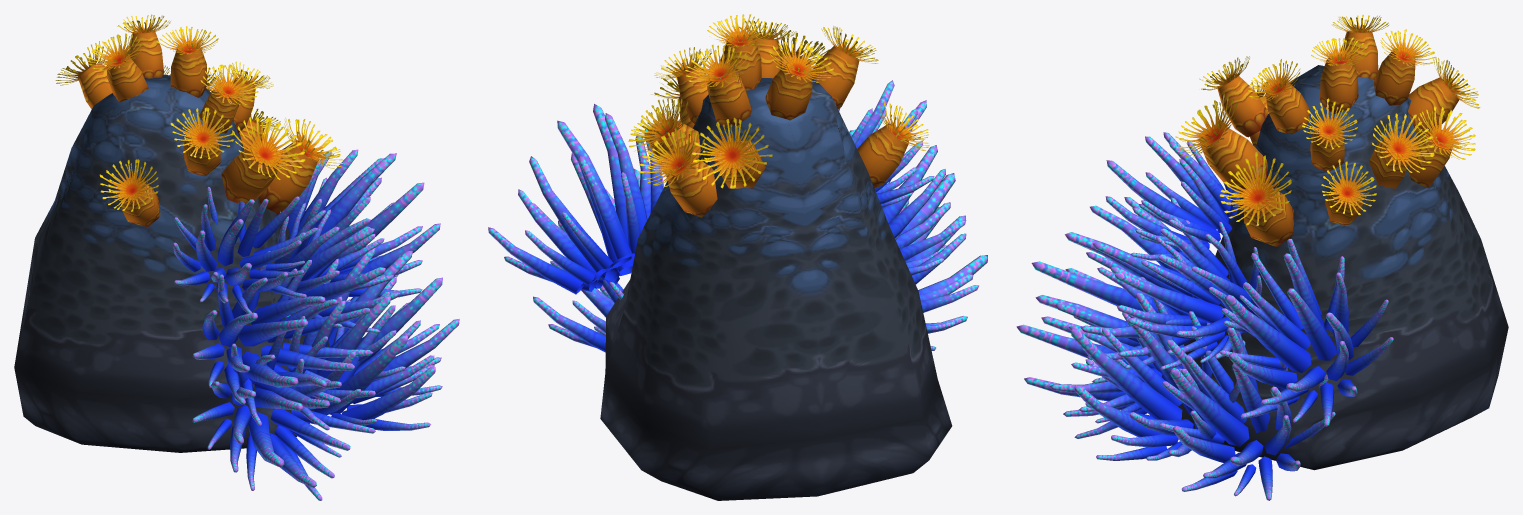
The model's file is CoralSet_04.FBX.
3 views of the same model, side by side, from view 1: azimuth 30°, elevation 25°; view 2: azimuth 150°, elevation 25°; view 3: azimuth 270°, elevation 25° (orthographic). The views are drawn at different scales.
Visible parts, largest first — view 1: Set_04, Set_04_Part02, Set_04_Part01, Line267, Line266; view 2: Set_04, Set_04_Part01, Set_04_Part02, Line267; view 3: Set_04, Set_04_Part02, Set_04_Part01, Line266, Line267.
Boxes of the visible parts, x1,y1,x2,y2 form: Set_04: [14, 74, 334, 452]; Set_04_Part02: [173, 149, 459, 430]; Set_04_Part01: [55, 14, 343, 226]; Line267: [192, 332, 375, 500]; Line266: [285, 292, 435, 430]; Set_04: [600, 78, 952, 500]; Set_04_Part01: [628, 14, 929, 217]; Set_04_Part02: [488, 80, 966, 352]; Line267: [895, 199, 987, 350]; Set_04: [1178, 65, 1508, 470]; Set_04_Part02: [1031, 132, 1393, 500]; Set_04_Part01: [1175, 15, 1480, 246]; Line266: [1071, 293, 1245, 460]; Line267: [1016, 257, 1170, 438].
Size of the model in its own units: 42.45 by 40.34 by 45.6.
